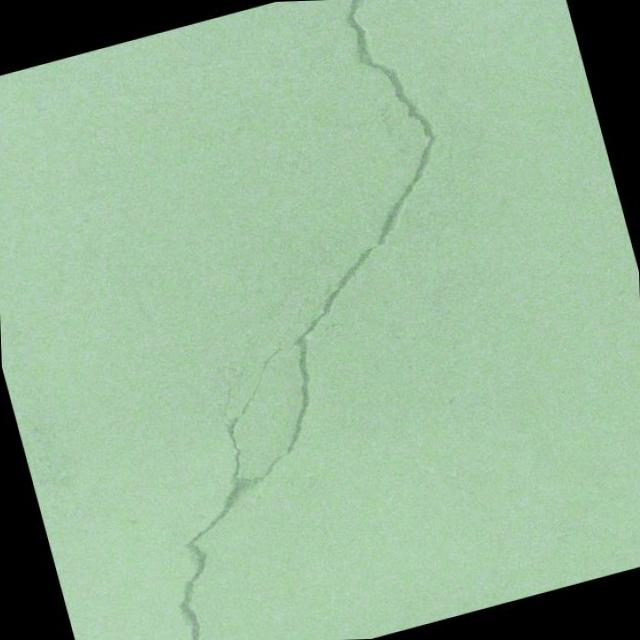crack: (26, 0, 561, 640)
